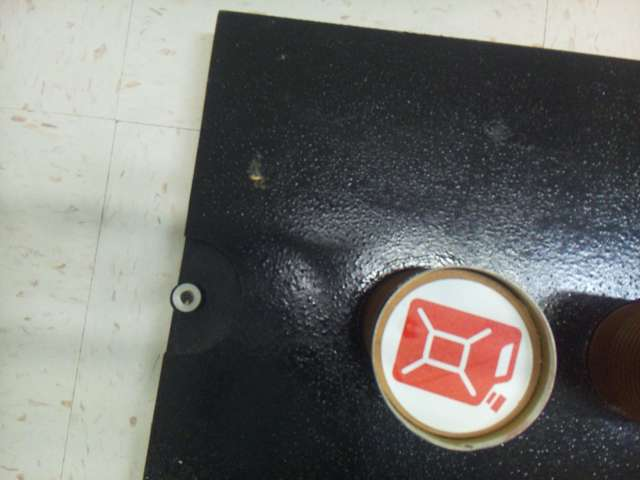gasoline: (381, 280, 533, 432)
